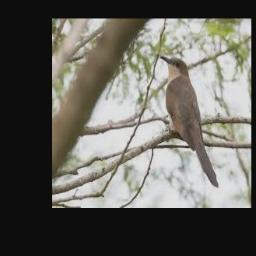Cuckoo: (160, 56, 219, 187)
